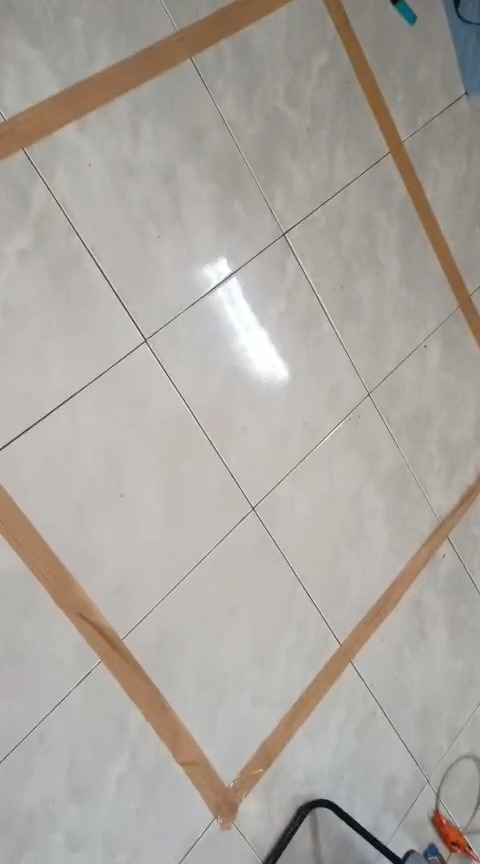floor marking: (0, 475, 479, 826), (325, 0, 479, 347), (0, 0, 290, 158)
